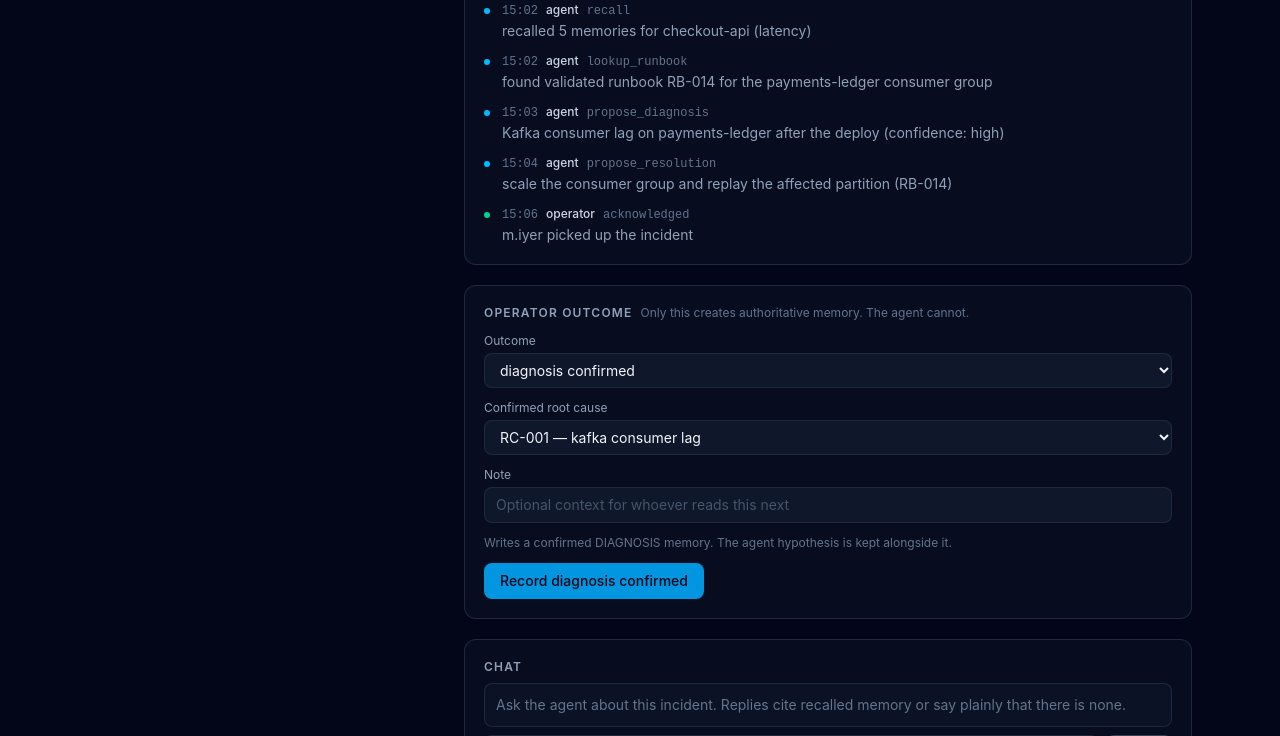
operator feedback › never renders a failed resolution as a validated fix
(page scrolled)
Check: the dropdown labelled "Confirmed root cause" shows "RC-001 — kafka consumer lag", box left=484, top=420, right=1172, bottom=455
Select "resolution failed" in the dropdown labelled "Outcome" at coordinates (828, 370), box left=484, top=353, right=1172, bottom=388
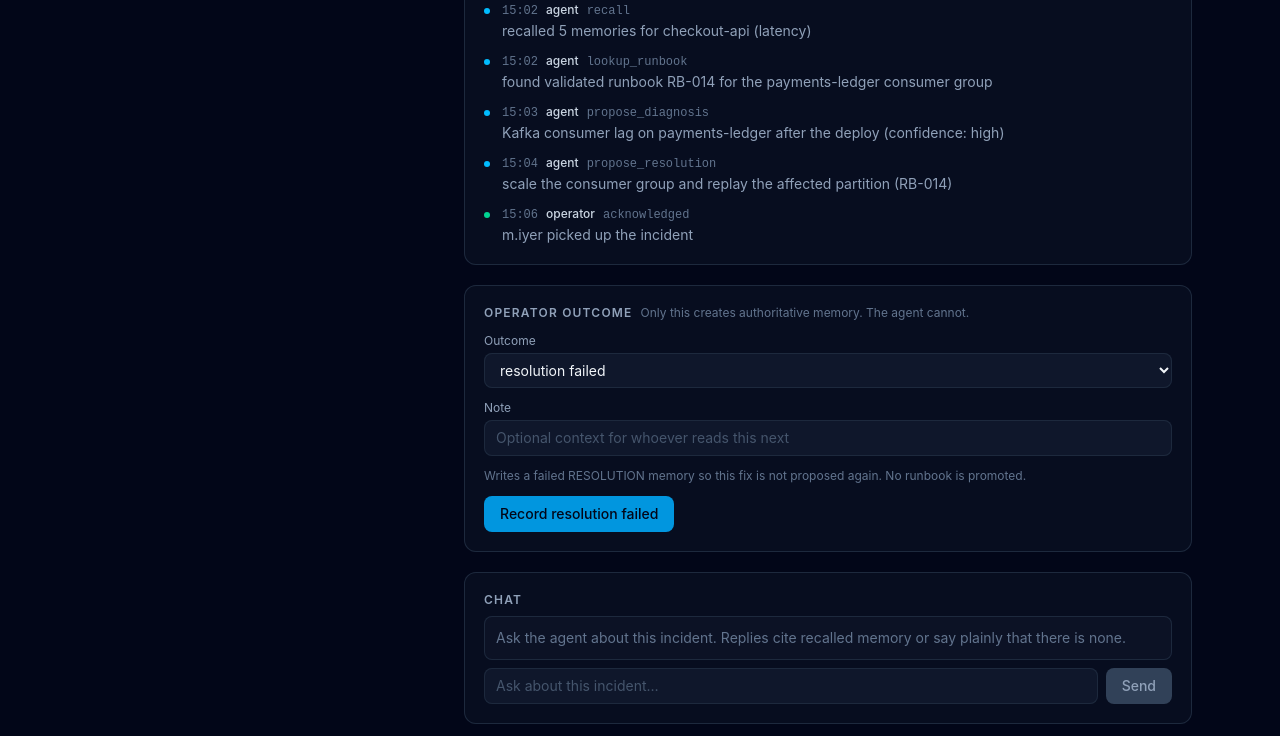
Click the button "Record resolution failed".
click(579, 514)  # box left=484, top=496, right=674, bottom=532
(page scrolled)
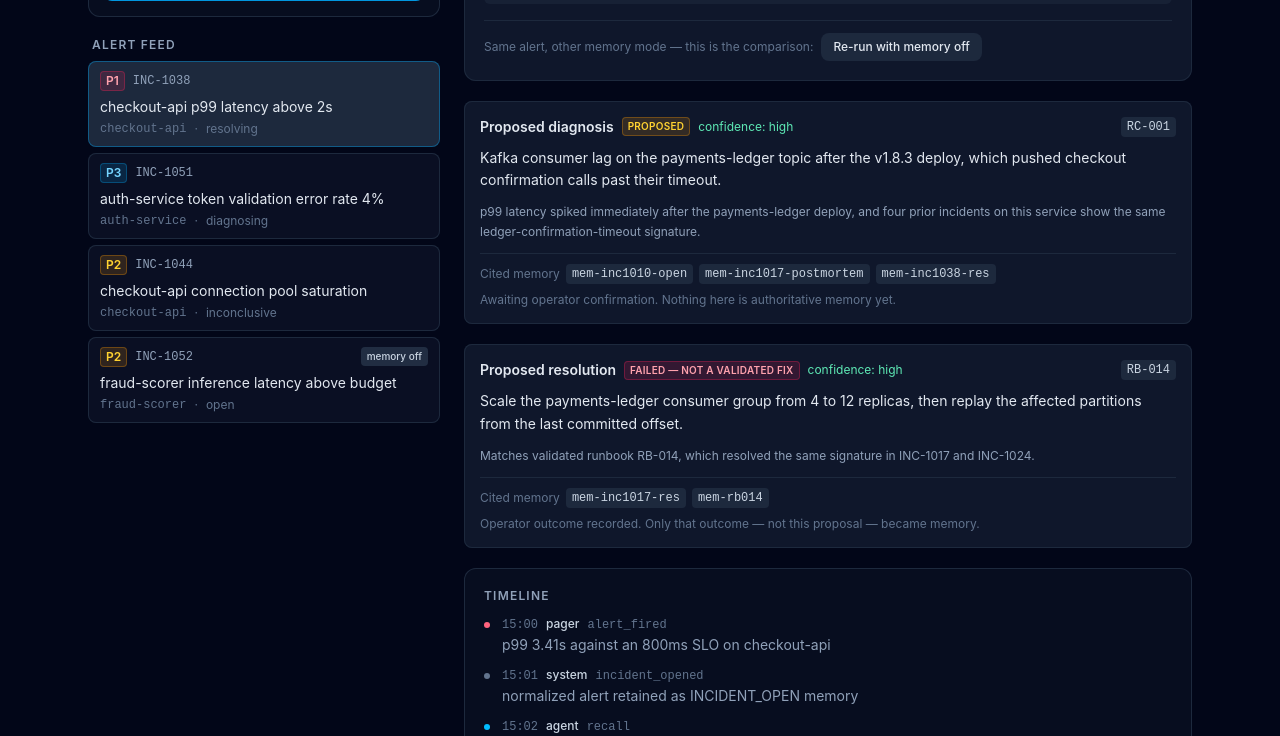
Check: the element with test id "operator-outcome" does not show "validated runbook"
Check: the text with test id "proposal-state" reads "failed — not a validated fix", box left=630, top=364, right=794, bottom=376
